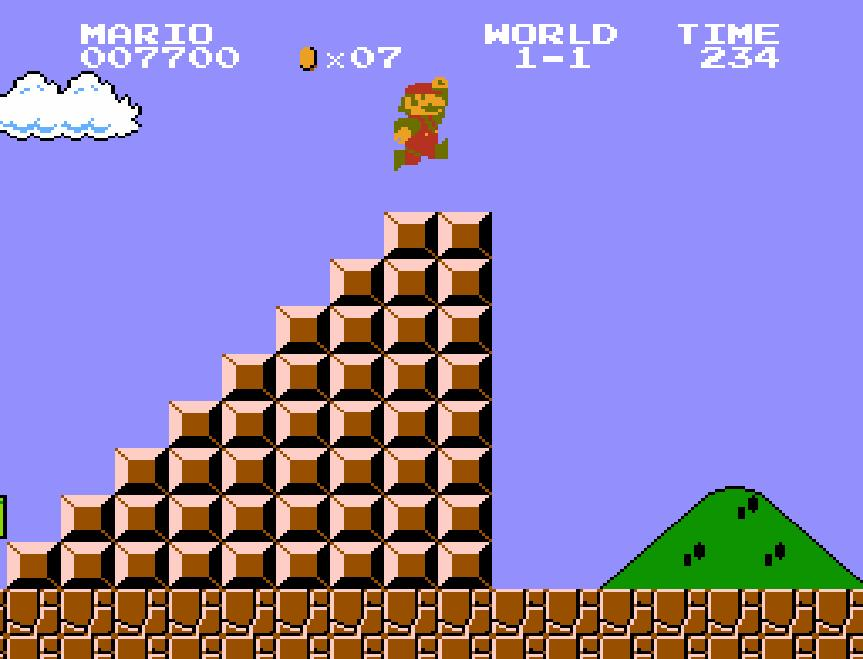big_mario: (392, 73, 450, 172)
